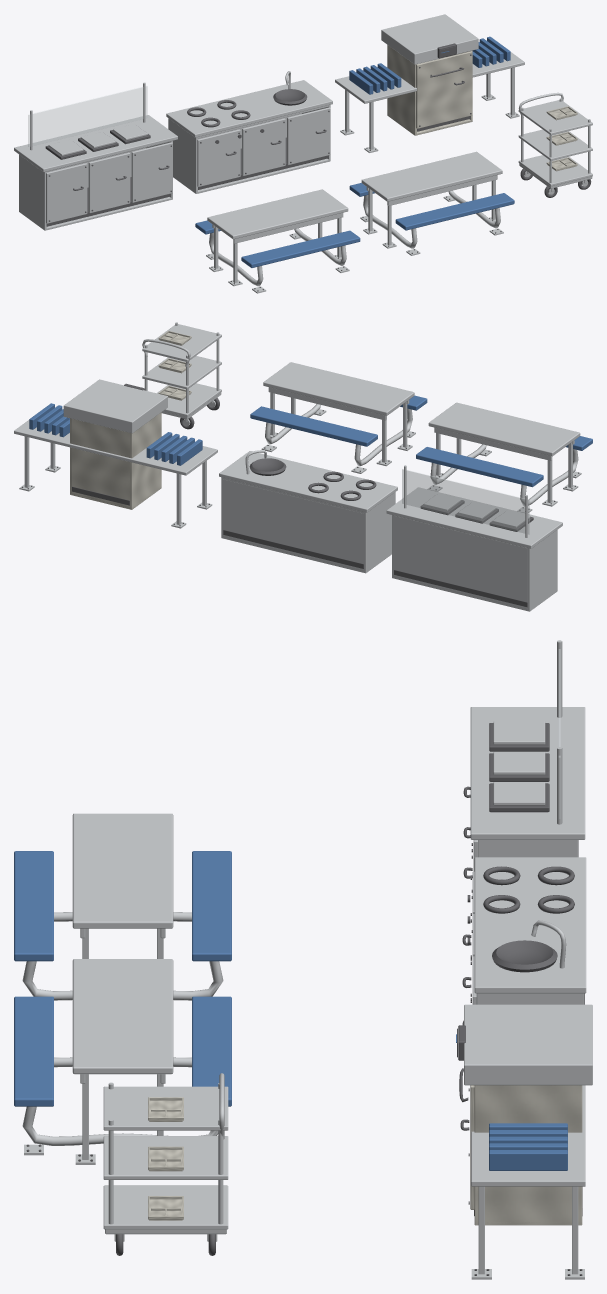
File: prison-complex-builder-canteen-and-service-line-9ea5f9e4__25721.glb
3 views of the same model, one above another, from view 1: azimuth 30°, elevation 25°; view 2: azimuth 150°, elevation 25°; view 3: azimuth 270°, elevation 25° (orthographic). The views are drawn at different scales.
Parts seen in each view (by area): view 1: 002-serving-counter/0, 003-kitchen-run/0, 004-dishwasher-line/2, 005-food-trolley/9, 002-serving-counter/9, 004-dishwasher-line/door-1/plasticWhite, 001-canteen-table-bolted/2, 000-canteen-table-bolted/2, 001-canteen-table-bolted/0, 000-canteen-table-bolted/0, 002-serving-counter/door-2/stainless, 002-serving-counter/door-1/stainless (+13 smaller); view 2: 002-serving-counter/0, 003-kitchen-run/0, 004-dishwasher-line/3, 004-dishwasher-line/2, 002-serving-counter/9, 005-food-trolley/9, 000-canteen-table-bolted/2, 001-canteen-table-bolted/2, 000-canteen-table-bolted/0, 001-canteen-table-bolted/0, 004-dishwasher-line/7, 001-canteen-table-bolted/3 (+6 smaller); view 3: 002-serving-counter/0, 005-food-trolley/9, 004-dishwasher-line/2, 003-kitchen-run/0, 000-canteen-table-bolted/2, 001-canteen-table-bolted/2, 000-canteen-table-bolted/3, 004-dishwasher-line/3, 001-canteen-table-bolted/3, 004-dishwasher-line/7, 003-kitchen-run/1, 005-food-trolley/10 (+5 smaller).
Boxes of the visible parts, bbox=[...] form: 002-serving-counter/0: bbox=[14, 115, 177, 230]; 003-kitchen-run/0: bbox=[166, 71, 332, 193]; 004-dishwasher-line/2: bbox=[335, 14, 524, 103]; 005-food-trolley/9: bbox=[518, 92, 592, 188]; 002-serving-counter/9: bbox=[28, 86, 147, 146]; 004-dishwasher-line/door-1/plasticWhite: bbox=[416, 51, 472, 128]; 001-canteen-table-bolted/2: bbox=[361, 151, 502, 201]; 000-canteen-table-bolted/2: bbox=[207, 189, 348, 239]; 001-canteen-table-bolted/0: bbox=[360, 175, 503, 255]; 000-canteen-table-bolted/0: bbox=[206, 213, 349, 293]; 002-serving-counter/door-2/stainless: bbox=[88, 152, 130, 213]; 002-serving-counter/door-1/stainless: bbox=[46, 163, 87, 223]; 002-serving-counter/0: bbox=[386, 487, 562, 611]; 003-kitchen-run/0: bbox=[219, 450, 397, 573]; 004-dishwasher-line/3: bbox=[70, 412, 161, 509]; 004-dishwasher-line/2: bbox=[14, 379, 217, 475]; 002-serving-counter/9: bbox=[402, 469, 529, 534]; 005-food-trolley/9: bbox=[142, 322, 221, 419]; 000-canteen-table-bolted/2: bbox=[428, 402, 580, 456]; 001-canteen-table-bolted/2: bbox=[263, 362, 414, 415]; 000-canteen-table-bolted/0: bbox=[427, 427, 581, 512]; 001-canteen-table-bolted/0: bbox=[261, 387, 415, 473]; 004-dishwasher-line/7: bbox=[29, 403, 202, 465]; 001-canteen-table-bolted/3: bbox=[250, 395, 427, 446]; 002-serving-counter/0: bbox=[470, 707, 585, 857]; 005-food-trolley/9: bbox=[103, 1073, 228, 1234]; 004-dishwasher-line/2: bbox=[464, 1004, 592, 1186]; 003-kitchen-run/0: bbox=[474, 857, 586, 1004]; 000-canteen-table-bolted/2: bbox=[72, 813, 173, 928]; 001-canteen-table-bolted/2: bbox=[72, 959, 173, 1074]; 000-canteen-table-bolted/3: bbox=[14, 851, 231, 961]; 004-dishwasher-line/3: bbox=[474, 1085, 582, 1225]; 001-canteen-table-bolted/3: bbox=[14, 996, 231, 1106]; 004-dishwasher-line/7: bbox=[489, 1123, 567, 1170]; 003-kitchen-run/1: bbox=[467, 866, 584, 1004]; 005-food-trolley/10: bbox=[148, 1097, 183, 1220].
Size of the model in its own units: 7.5 by 1.53 by 4.04.
5 materials, 1 textured.
